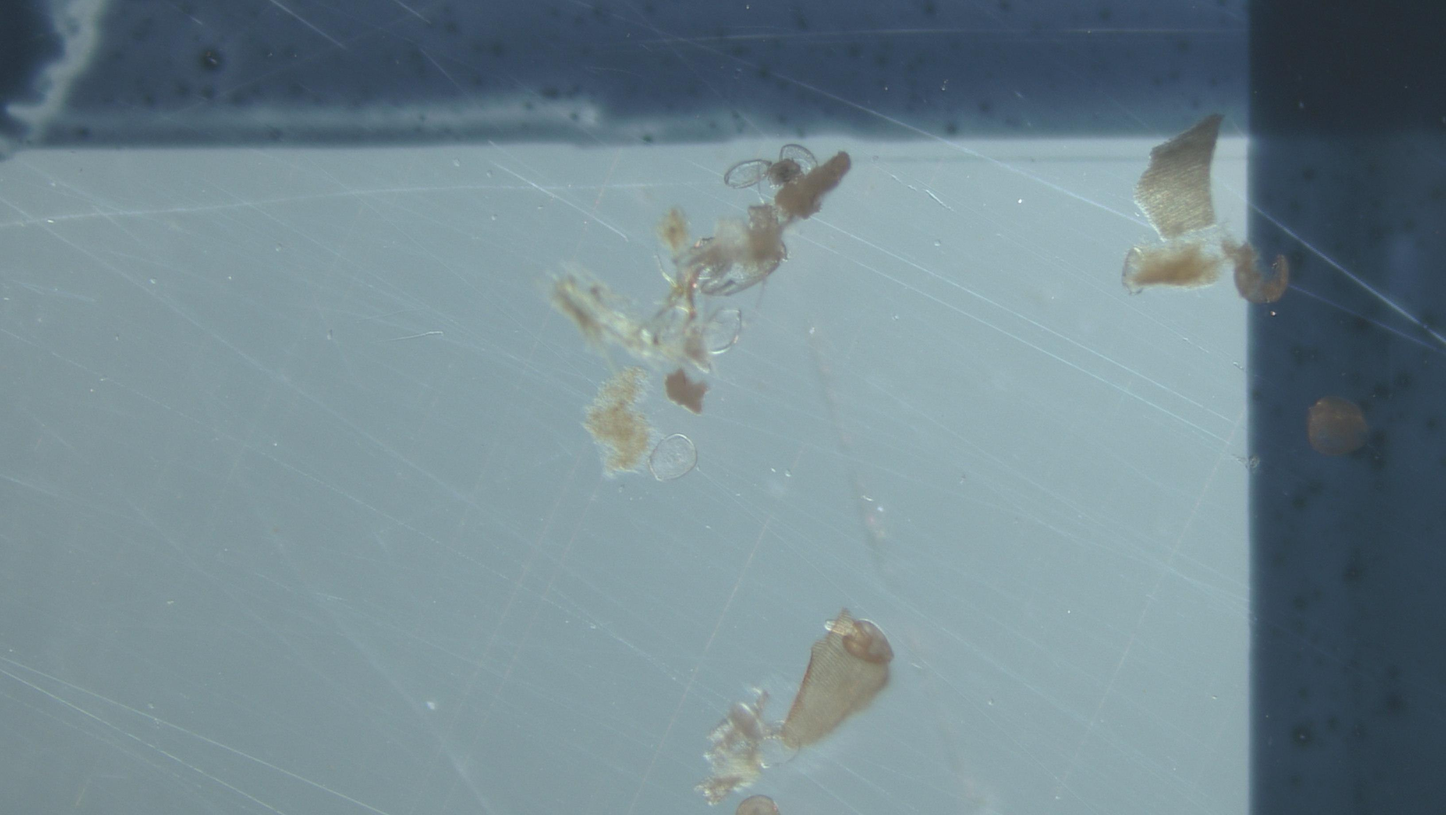dead: (649, 434, 698, 481), (758, 722, 802, 770), (703, 309, 743, 356), (724, 159, 773, 189), (778, 144, 818, 172)
live: (1308, 397, 1370, 455), (827, 620, 893, 666)
